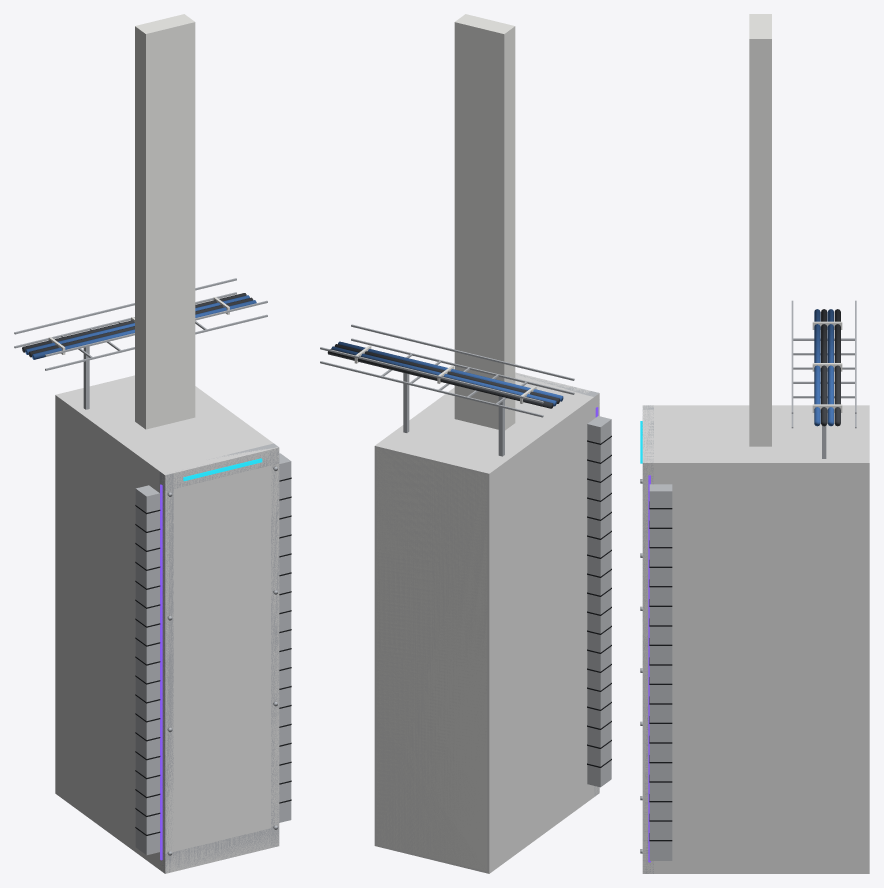
File: Tech_ServerRack_B.gltf
3 views of the same model, side by side, from view 1: azimuth 30°, elevation 25°; view 2: azimuth 150°, elevation 25°; view 3: azimuth 270°, elevation 25° (orthographic). The views are drawn at different scales.
Visible parts, largest first — view 1: Tech_ServerRack_B_COL, Tech_ServerRack_B; view 2: Tech_ServerRack_B_COL, Tech_ServerRack_B; view 3: Tech_ServerRack_B_COL, Tech_ServerRack_B.
Boxes of the visible parts, left/top/right/bottom form: Tech_ServerRack_B_COL: left=55, top=375, right=279, bottom=873; Tech_ServerRack_B: left=14, top=14, right=291, bottom=872; Tech_ServerRack_B_COL: left=374, top=372, right=599, bottom=873; Tech_ServerRack_B: left=320, top=14, right=611, bottom=871; Tech_ServerRack_B_COL: left=642, top=405, right=869, bottom=873; Tech_ServerRack_B: left=640, top=14, right=856, bottom=873.
Bounding box in the file's own units: 1.16 × 3.98 × 1.01.
